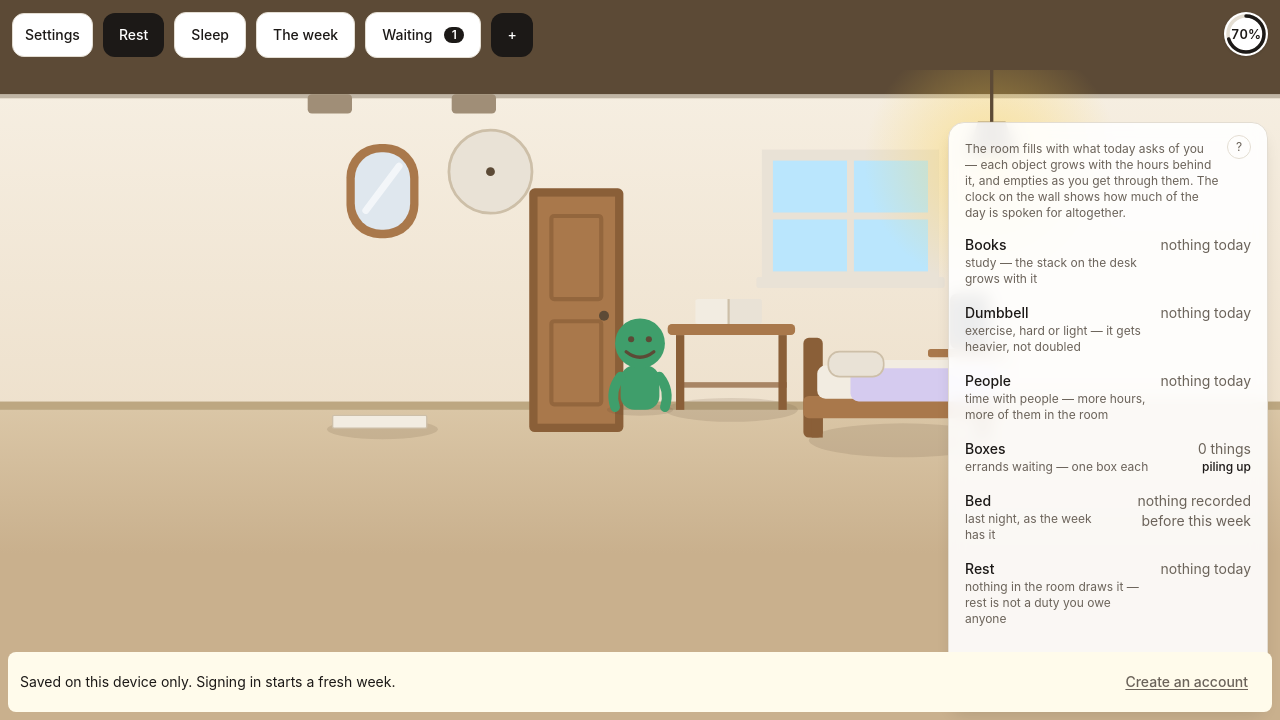
Scenario: RoomShell with the room › states the room in words too, and publishes the accuracy line beside it
The width and height of the screenshot is (1280, 720).
Click the button with test id "open-notices" at (423, 35), box [365,12,481,58]
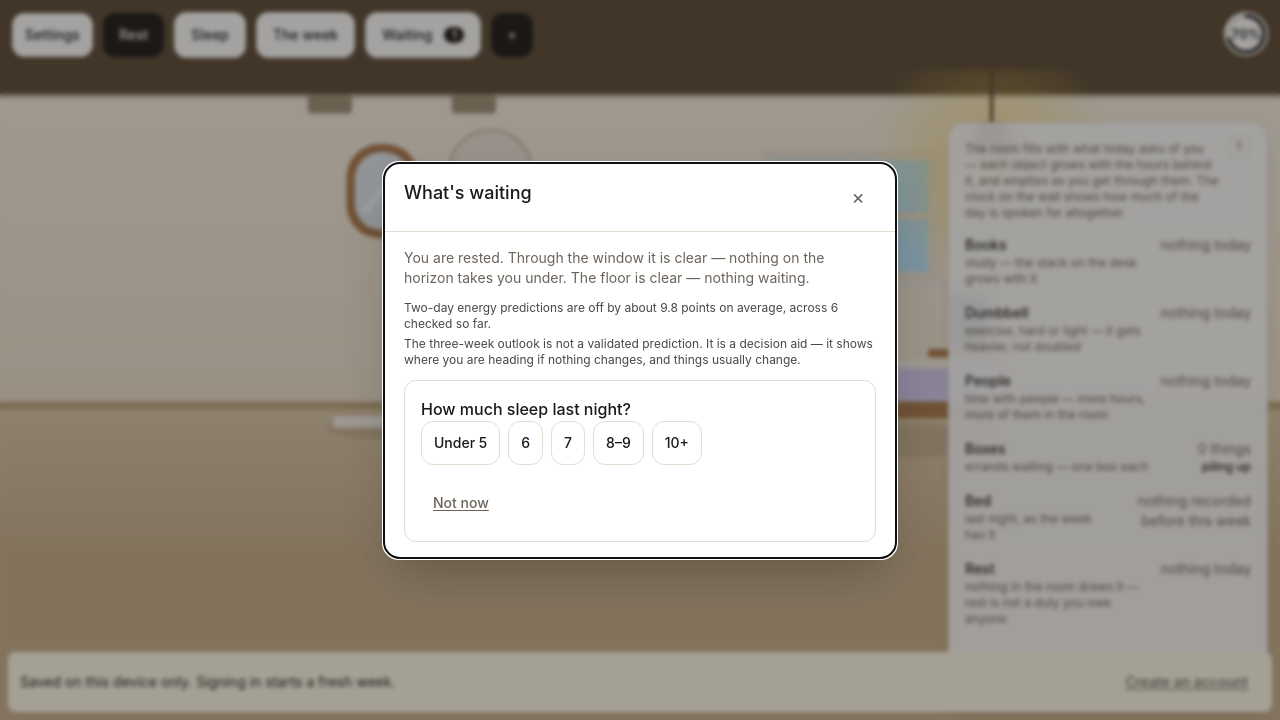
Expected: the text with test id "room-text-equivalent" is shown, [404,248,876,288]
Expected: the element with test id "accuracy-note" is shown, [404,300,876,368]
